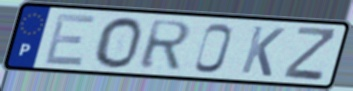0: (193, 22, 235, 74)
E: (41, 12, 99, 68)
K: (238, 23, 288, 79)
O: (92, 15, 144, 70)
R: (137, 18, 194, 71)
Z: (281, 25, 340, 83)
